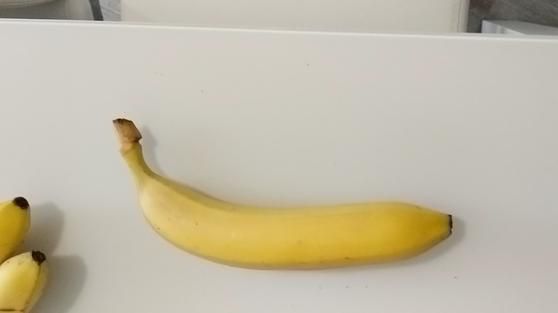banana: (115, 110, 457, 267)
